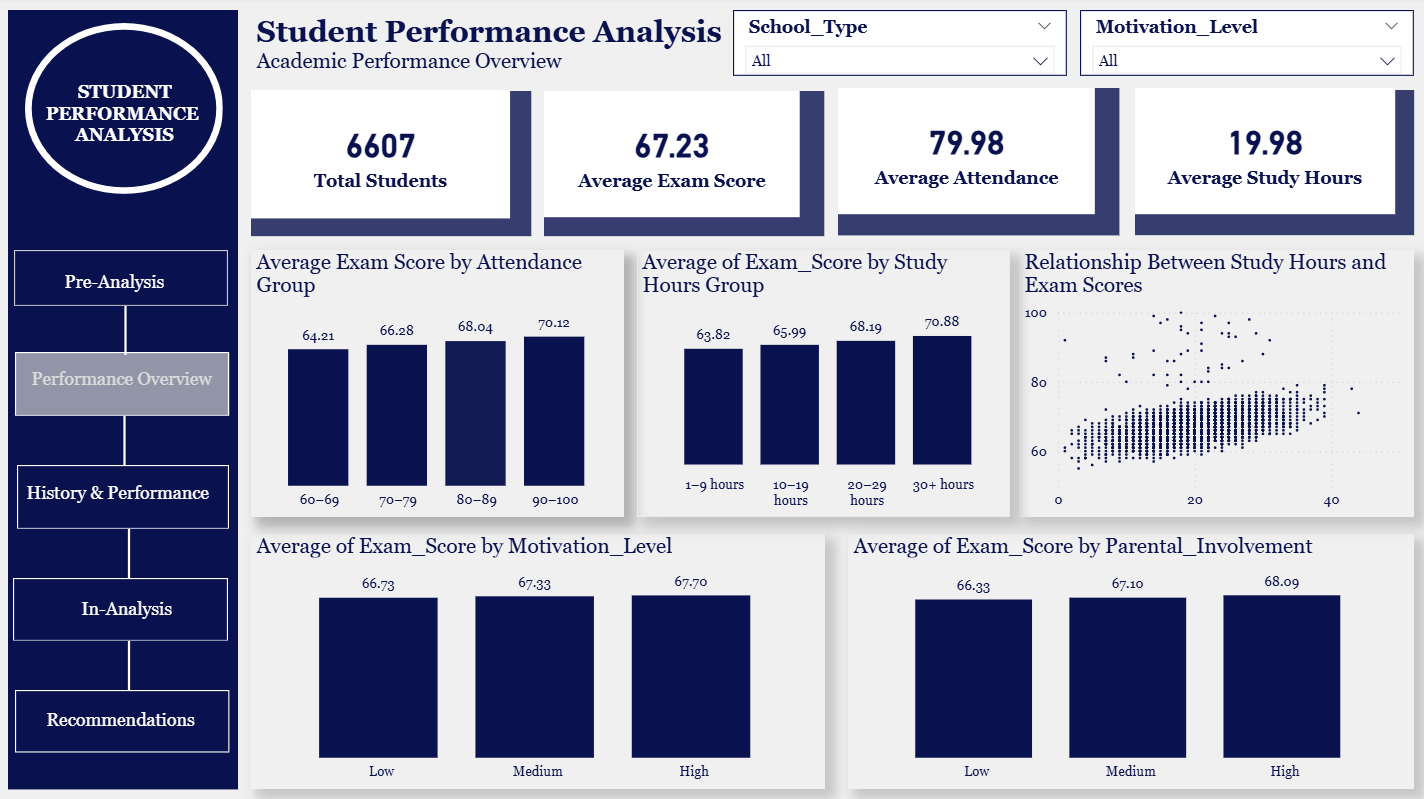

The dashboard page shown, as its layout file describes it:
{"tool":"powerbi","page":{"name":"Academic performance overview","canvas":[1280,720],"ordinal":1},"visuals":[{"type":"textbox","box":[0,0,1280,719.8],"z":0},{"type":"textbox","box":[225.7,11.6,438.8,41.2],"z":1000},{"type":"textbox","box":[8.1,11.6,206,697.6],"z":2000},{"type":"textbox","box":[225.7,84.2,250.7,129.9],"z":3000},{"type":"textbox","box":[488.1,84.2,250.7,129.9],"z":4000},{"type":"textbox","box":[751.3,81.5,251.6,131.6],"z":5000},{"type":"textbox","box":[1017.3,83.3,249.9,129.9],"z":6000},{"type":"card","fields":{"Values":["StudentPerformanceFactors_Cleaned.Total Students"]},"box":[225.7,83.3,231.9,114.6],"z":7000},{"type":"card","fields":{"Values":["StudentPerformanceFactors_Cleaned.Average Exam Score"]},"box":[488.1,84.2,229.3,112.8],"z":8000},{"type":"card","fields":{"Values":["StudentPerformanceFactors_Cleaned.Average Attendance"]},"box":[751.3,81.5,230.1,112.8],"z":9000},{"type":"card","fields":{"Values":["StudentPerformanceFactors_Cleaned.Average Study Hours"]},"box":[1017.3,81.5,232.8,112.8],"z":10000},{"type":"clusteredColumnChart","title":"Average Exam Score by Attendance Group","fields":{"Category":["StudentPerformanceFactors_Cleaned.Attendance Group"],"Y":["Avg(StudentPerformanceFactors_Cleaned.Exam_Score)","select"]},"box":[225.7,226.6,334,239.1],"z":11000},{"type":"clusteredColumnChart","fields":{"Category":["StudentPerformanceFactors_Cleaned.Study Hours Group"],"Y":["Avg(StudentPerformanceFactors_Cleaned.Exam_Score)"]},"box":[571.3,226.6,334,239.1],"z":12000},{"type":"clusteredColumnChart","fields":{"Category":["StudentPerformanceFactors_Cleaned.Motivation_Level"],"Y":["Avg(StudentPerformanceFactors_Cleaned.Exam_Score)"]},"box":[225.7,480.9,514,228.4],"z":13000},{"type":"clusteredColumnChart","fields":{"Category":["StudentPerformanceFactors_Cleaned.Parental_Involvement"],"Y":["Avg(StudentPerformanceFactors_Cleaned.Exam_Score)"]},"box":[760.3,480.9,506.9,228.4],"z":14000},{"type":"textbox","box":[225.7,41.2,300,37.6],"z":15000},{"type":"slicer","fields":{"Values":["StudentPerformanceFactors_Cleaned.School_Type"]},"box":[657.3,11.6,299.1,59.1],"z":16000},{"type":"slicer","fields":{"Values":["StudentPerformanceFactors_Cleaned.Motivation_Level"]},"box":[968.1,11.6,299.1,59.1],"z":17000},{"type":"shape","box":[23.3,23.3,177.3,153.1],"z":18000},{"type":"textbox","box":[5.4,70.7,214,124.5],"z":19000},{"type":"textbox","box":[53.7,240.9,113.7,28.7],"z":20000},{"type":"shape","box":[13.4,226.6,191.6,50.1],"z":21000},{"type":"textbox","box":[19.7,429.9,184.5,35.8],"z":22000},{"type":"textbox","box":[24.2,327.8,174.6,37.6],"z":23000},{"type":"shape","box":[14.3,317.9,191.6,57.3],"z":24000},{"type":"shape","box":[103.9,276.7,18.8,43.9],"z":25000},{"type":"shape","box":[103,375.2,18.8,43.9],"z":26000},{"type":"shape","box":[16.1,419.1,189.9,57.3],"z":27000},{"type":"shape","box":[107.5,476.4,17.9,43.9],"z":28000},{"type":"shape","box":[12.5,520.3,192.5,56.4],"z":29000},{"type":"textbox","box":[69,533.7,94.9,29.6],"z":30000},{"type":"shape","box":[107.5,576.7,17.9,43.9],"z":31000},{"type":"shape","box":[14.3,620.6,192,56],"z":32000},{"type":"textbox","box":[37.6,633.1,157.6,30.4],"z":33000},{"type":"scatterChart","title":"Relationship Between Study Hours and Exam Scores","fields":{"X":["StudentPerformanceFactors_Cleaned.Hours_Studied"],"Y":["StudentPerformanceFactors_Cleaned.Exam_Score"],"Category":["StudentPerformanceFactors_Cleaned.Student_ID"]},"box":[913.4,226.6,353.7,239.1],"z":34000}]}

Visuals, with their boxes in screenshot pixels (x1, y1, x2, y2), scaled from the page's 1280x720 canvas onto the 1424x799 screenshot:
textbox: (0,0,1423,798)
textbox: (251,13,739,59)
textbox: (9,13,238,787)
textbox: (251,93,530,238)
textbox: (543,93,822,238)
textbox: (836,90,1116,236)
textbox: (1132,92,1410,237)
card - StudentPerformanceFactors_Cleaned.Total Students: (251,92,509,220)
card - StudentPerformanceFactors_Cleaned.Average Exam Score: (543,93,798,219)
card - StudentPerformanceFactors_Cleaned.Average Attendance: (836,90,1092,216)
card - StudentPerformanceFactors_Cleaned.Average Study Hours: (1132,90,1391,216)
"Average Exam Score by Attendance Group" clusteredColumnChart: (251,251,623,517)
clusteredColumnChart - StudentPerformanceFactors_Cleaned.Study Hours Group x Avg(StudentPerformanceFactors_Cleaned.Exam_Score): (636,251,1007,517)
clusteredColumnChart - StudentPerformanceFactors_Cleaned.Motivation_Level x Avg(StudentPerformanceFactors_Cleaned.Exam_Score): (251,534,823,787)
clusteredColumnChart - StudentPerformanceFactors_Cleaned.Parental_Involvement x Avg(StudentPerformanceFactors_Cleaned.Exam_Score): (846,534,1410,787)
textbox: (251,46,585,87)
slicer - StudentPerformanceFactors_Cleaned.School_Type: (731,13,1064,78)
slicer - StudentPerformanceFactors_Cleaned.Motivation_Level: (1077,13,1410,78)
shape: (26,26,223,196)
textbox: (6,78,244,217)
textbox: (60,267,186,299)
shape: (15,251,228,307)
textbox: (22,477,227,517)
textbox: (27,364,221,405)
shape: (16,353,229,416)
shape: (116,307,137,356)
shape: (115,416,136,465)
shape: (18,465,229,529)
shape: (120,529,140,577)
shape: (14,577,228,640)
textbox: (77,592,182,625)
shape: (120,640,140,689)
shape: (16,689,230,751)
textbox: (42,703,217,736)
"Relationship Between Study Hours and Exam Scores" scatterChart: (1016,251,1410,517)
